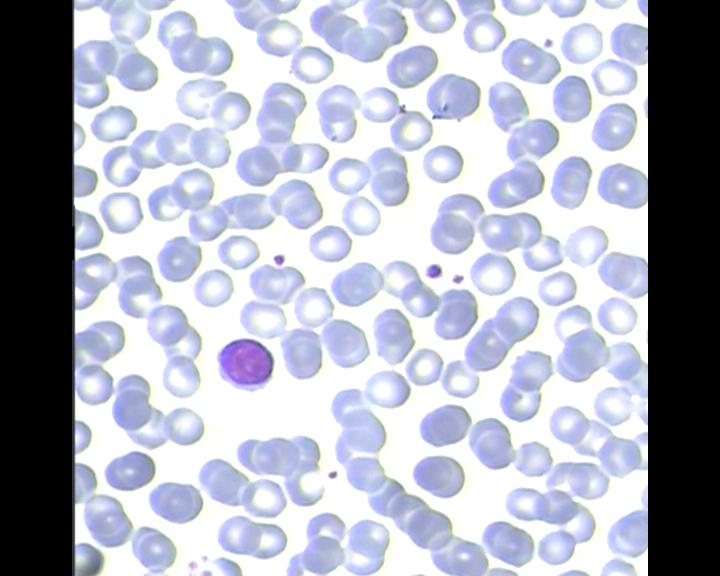lymp: (210, 335, 279, 394)
